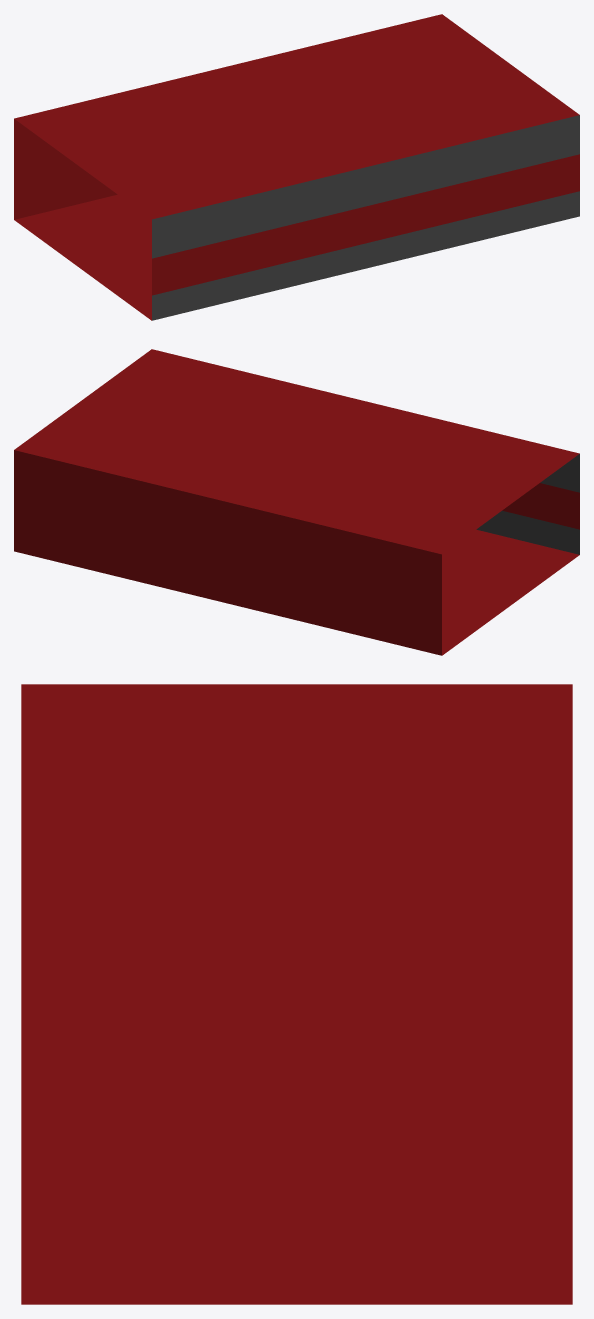
File: vpstage_mid.fbx
3 views of the same model, one above another, from view 1: azimuth 30°, elevation 25°; view 2: azimuth 150°, elevation 25°; view 3: azimuth 270°, elevation 25° (orthographic). The views are drawn at different scales.
Parts seen in each view (by area): view 1: StageMid; view 2: StageMid; view 3: StageMid.
Part boxes in pixels (box(x1,y1,x2,y2)): StageMid: box(14, 14, 579, 320); StageMid: box(14, 349, 579, 655); StageMid: box(21, 684, 572, 1304).
Bounding box in the file's own units: 5066 × 1146 × 2826.
